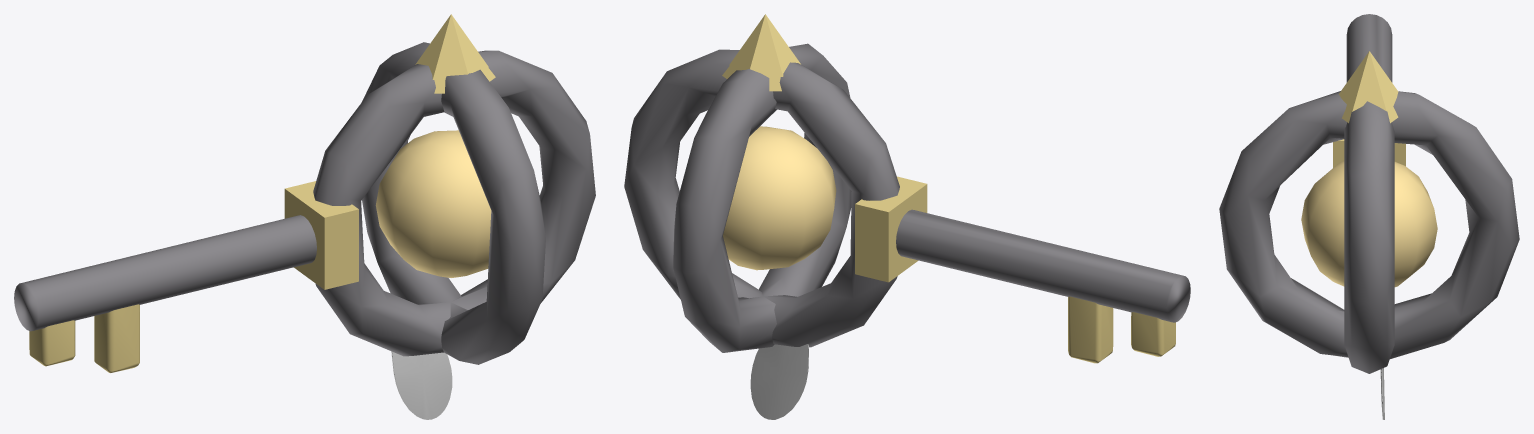
The model's file is LanternKey.glb.
The picture shows the model from 3 angles, left to right: view 1: azimuth 30°, elevation 25°; view 2: azimuth 150°, elevation 25°; view 3: azimuth 270°, elevation 25°; orthographic projection. The views are drawn at different scales.
Visible parts, largest first — view 1: Iron, Glow, Brass, Leaf; view 2: Iron, Glow, Brass, Leaf; view 3: Iron, Glow, Brass.
Part boxes in pixels (<box>): Iron: <box>14,42,595,364</box>; Glow: <box>375,130,491,277</box>; Brass: <box>29,14,495,372</box>; Leaf: <box>391,351,452,419</box>; Iron: <box>624,43,1190,352</box>; Glow: <box>723,126,836,270</box>; Brass: <box>722,14,1175,363</box>; Leaf: <box>750,344,809,419</box>; Iron: <box>1219,14,1519,373</box>; Glow: <box>1301,161,1437,287</box>; Brass: <box>1333,51,1405,167</box>.
Bounding box in the file's own units: 2.63 × 1.81 × 1.32.
